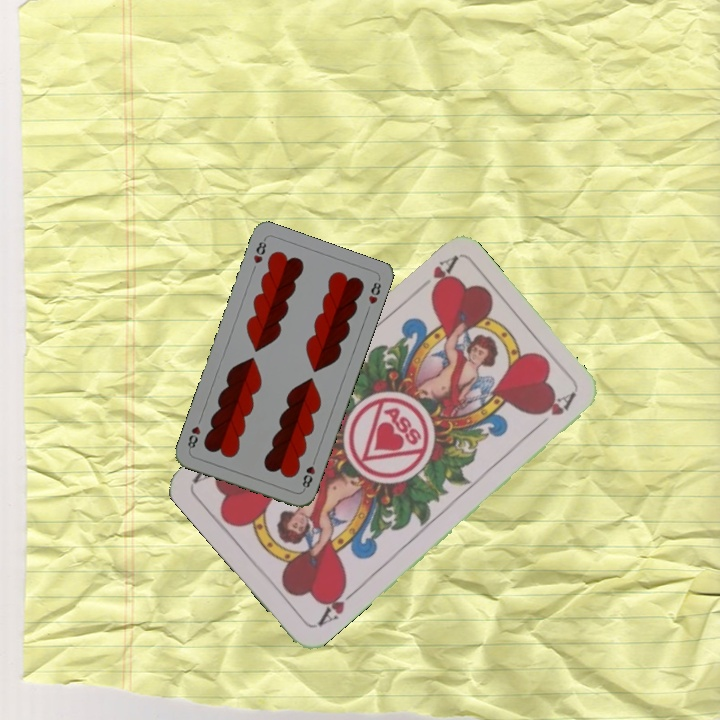H8: (298, 453, 319, 493), (249, 235, 269, 266)
HA: (313, 579, 360, 629), (409, 253, 459, 297)
